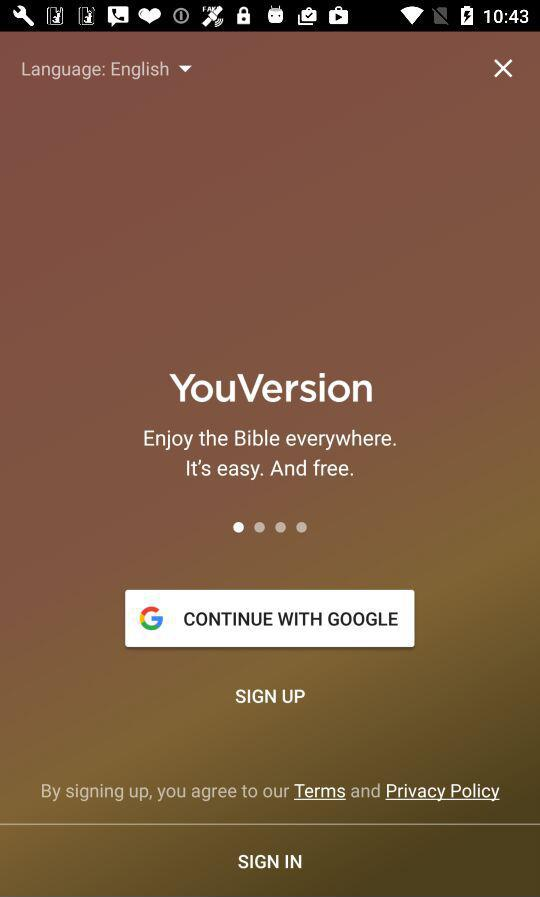Icon: (493, 59, 513, 79)
PageIndicator: (232, 521, 309, 535)
Spinner: (112, 61, 194, 81)
Text: (143, 429, 397, 481), (42, 783, 501, 803), (169, 372, 374, 405), (22, 62, 107, 81), (235, 688, 307, 705)
TextButton: (1, 823, 540, 897), (125, 590, 415, 648)
UpperTaskBar: (1, 1, 540, 33)
